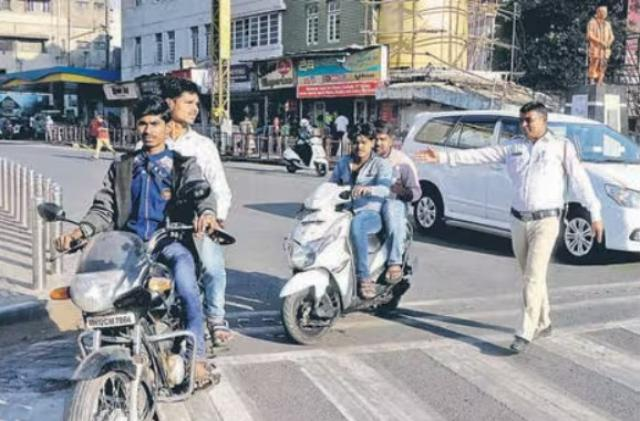licensePlate: (86, 315, 137, 329)
motorcycle: (41, 75, 234, 421), (277, 116, 430, 355)
withoutHelmet: (165, 81, 204, 124), (135, 102, 169, 150), (347, 126, 381, 164), (372, 117, 394, 152)
